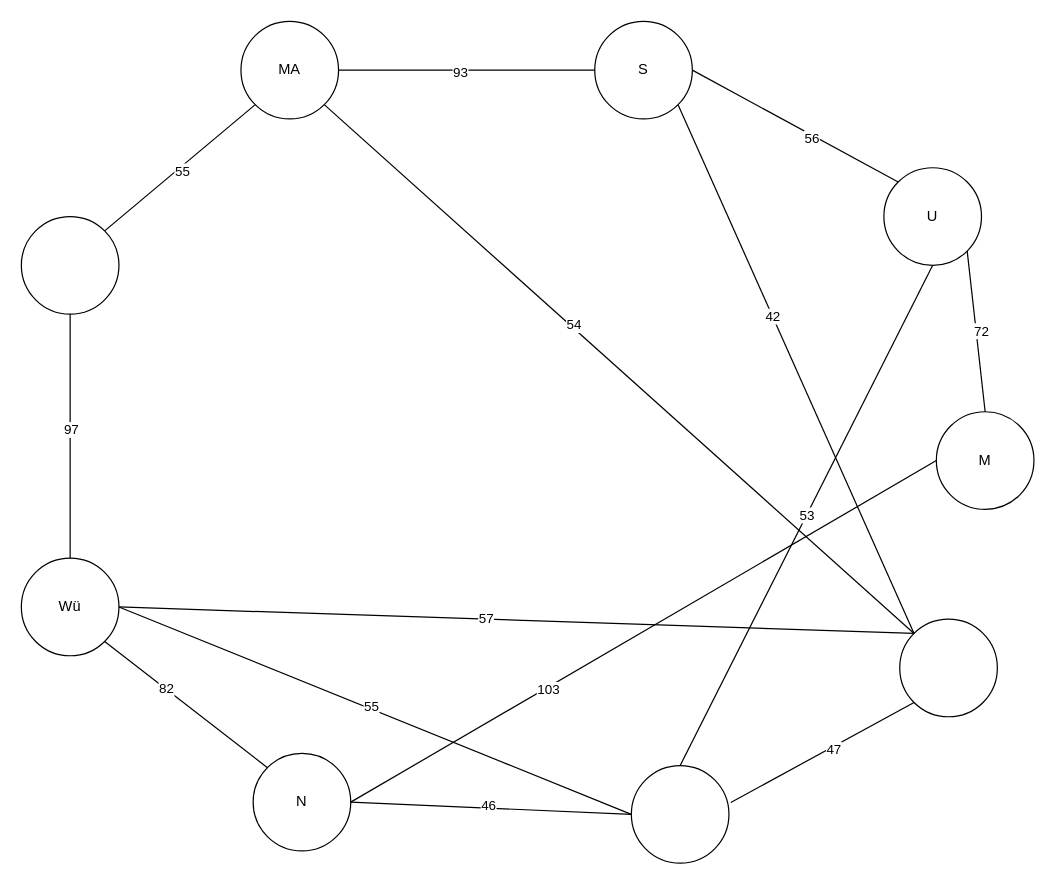
This 1055x885 diagram has some shape labels left out. Here are the shapes that lost their labels. From the top down, the box of each, then its label:
(20, 215, 119, 314): MZ
(899, 618, 997, 717): Hb
(630, 764, 729, 863): Fe
